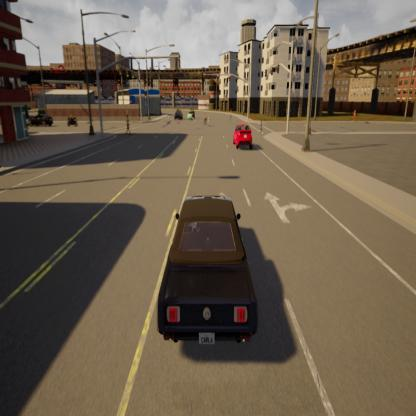Cars: (157, 194, 258, 362), (234, 122, 254, 152)
Pedestrian: (124, 113, 131, 135), (260, 115, 264, 137)
